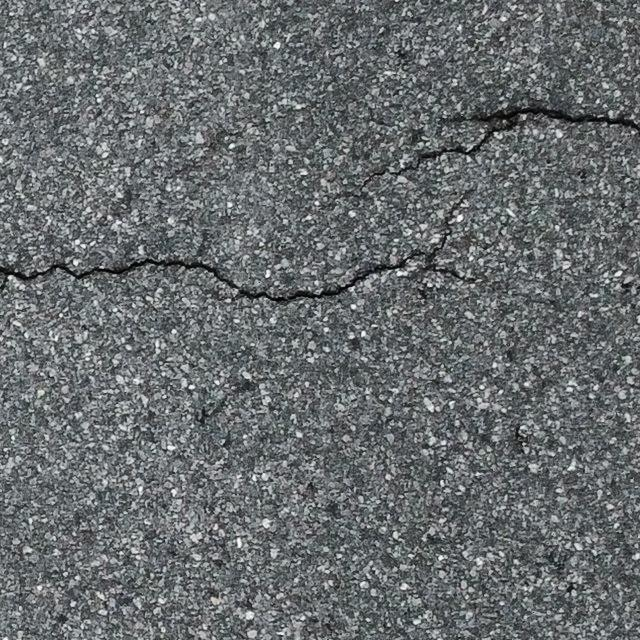TransverseCrack: (1, 187, 476, 305), (362, 105, 640, 184)
